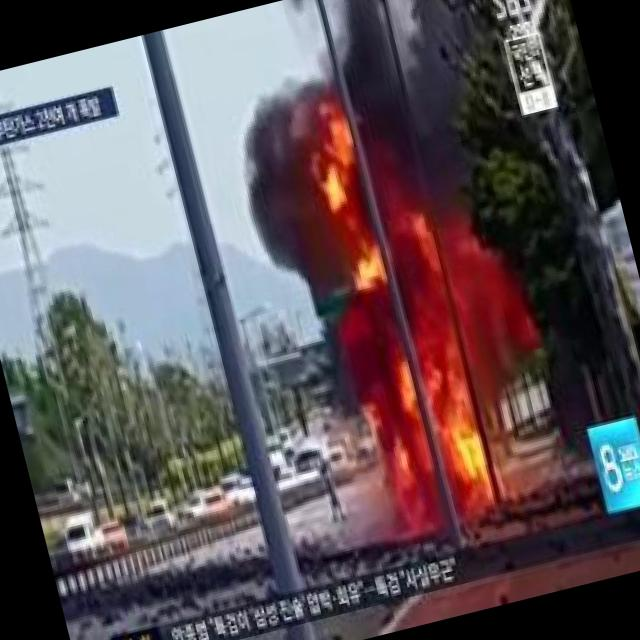Fire: (326, 215, 552, 532), (307, 111, 378, 237)
Smoke: (226, 94, 350, 316)
